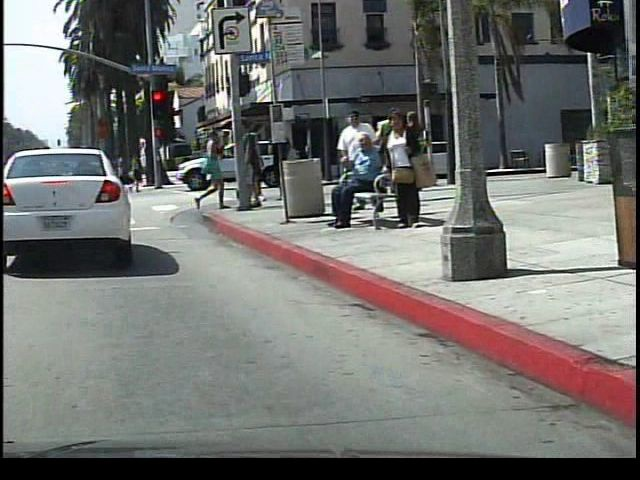person: (324, 135, 392, 235), (377, 112, 424, 234), (194, 126, 232, 216), (126, 150, 149, 196)
